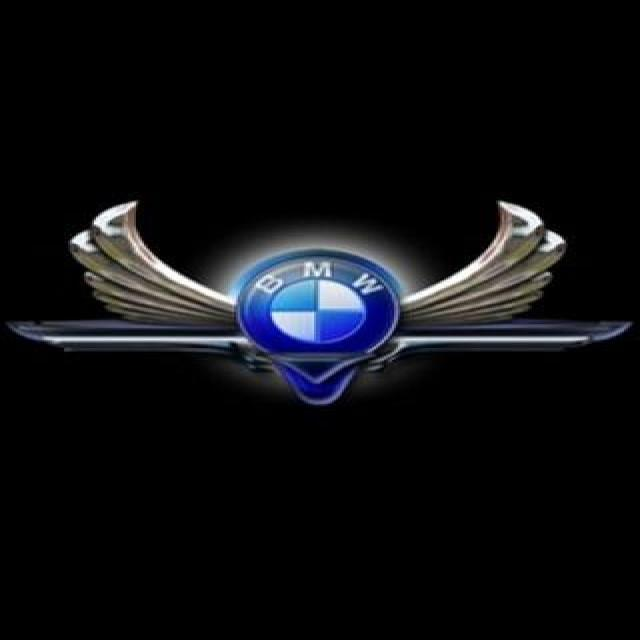bmw: (233, 250, 405, 357)
